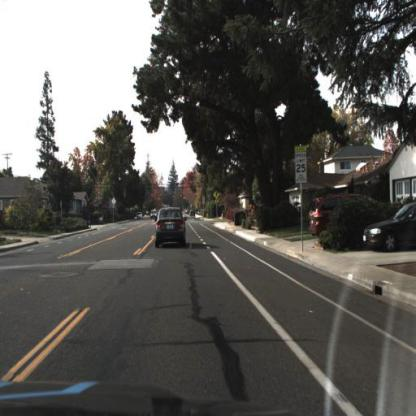car: (308, 192, 381, 241), (364, 202, 416, 255), (154, 207, 188, 248)
